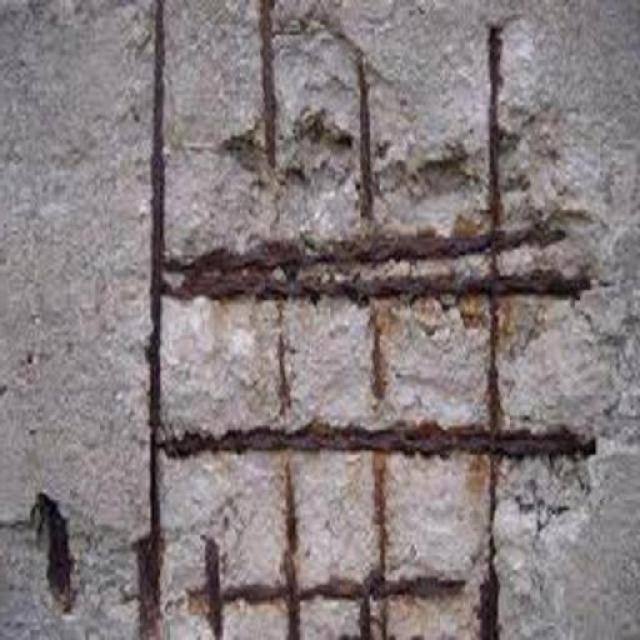D0w0: (18, 0, 639, 639)
